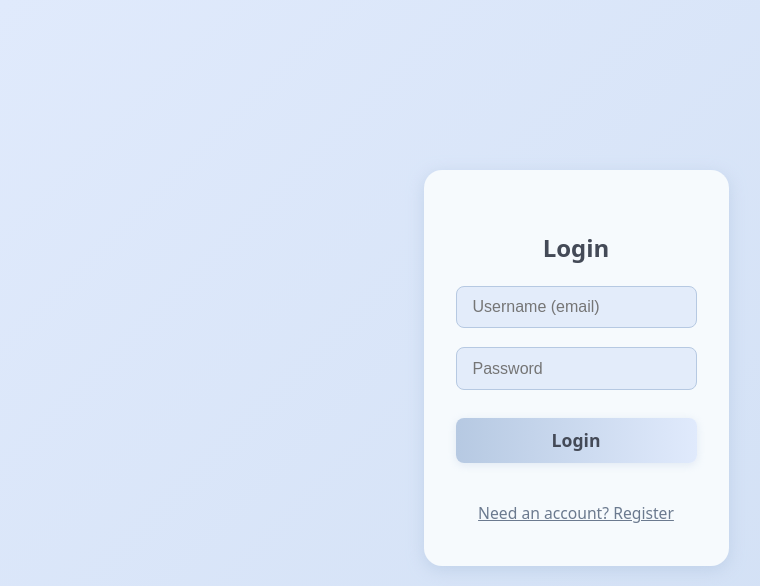
LoginForm › toggles to register mode
Click the button "Need an account? Register": (576, 514) [459,493,693,534]
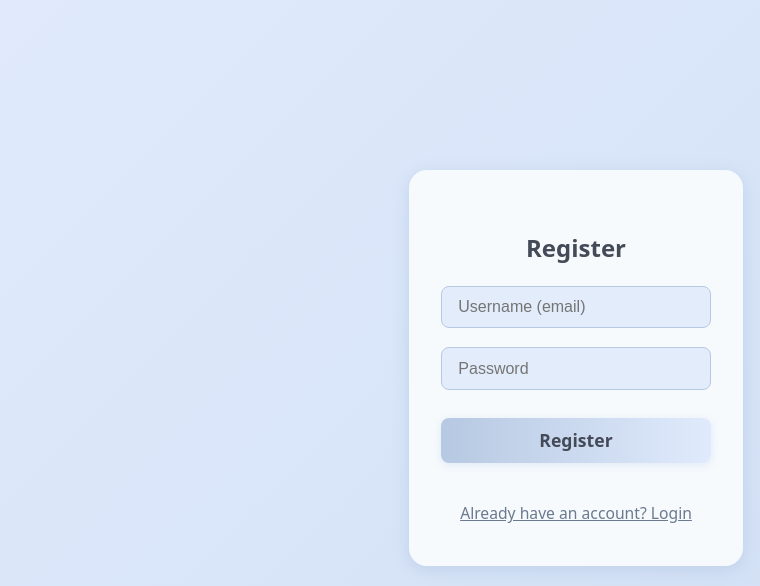
Check: the heading "Register" is shown, box [526,230,626,266]
